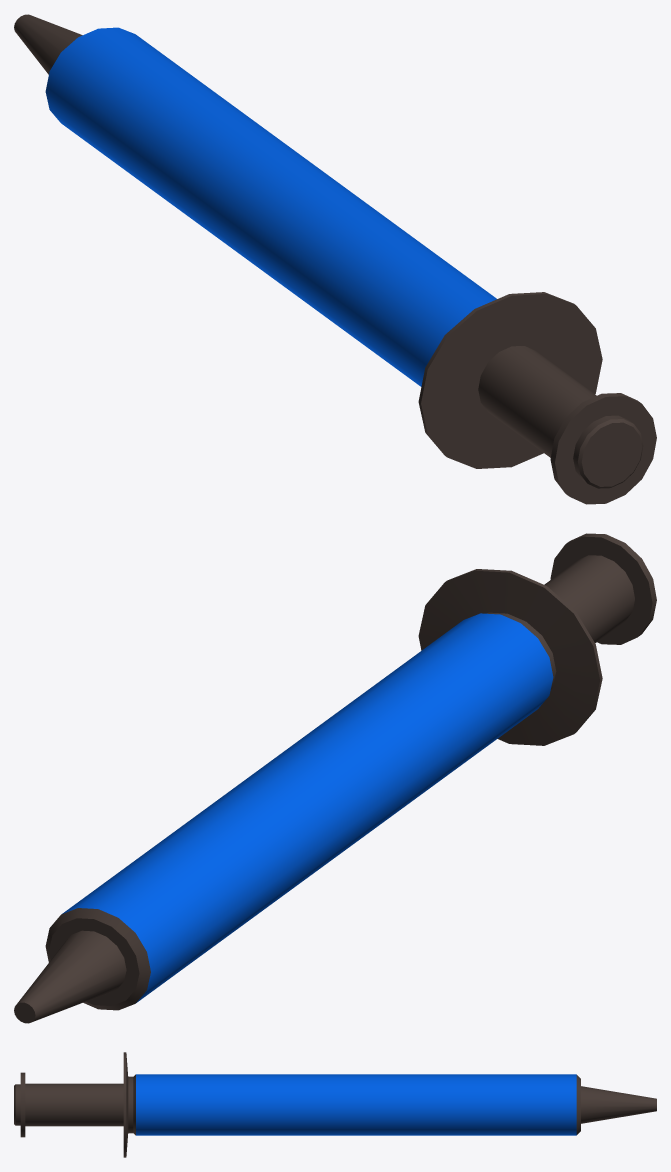
Rendered from thermal_paste.fbx.
3 renders of one model, top to bottom at view 1: azimuth 30°, elevation 25°; view 2: azimuth 150°, elevation 25°; view 3: azimuth 270°, elevation 25°, orthographic. The views are drawn at different scales.
Parts seen in each view (by area): view 1: thermal paste; view 2: thermal paste; view 3: thermal paste.
Boxes of the visible parts, left/top/right/bottom form: thermal paste: left=14, top=14, right=656, bottom=504; thermal paste: left=14, top=533, right=656, bottom=1023; thermal paste: left=14, top=1052, right=656, bottom=1157.
Size of the model in its own units: 76.97 by 69.39 by 431.
